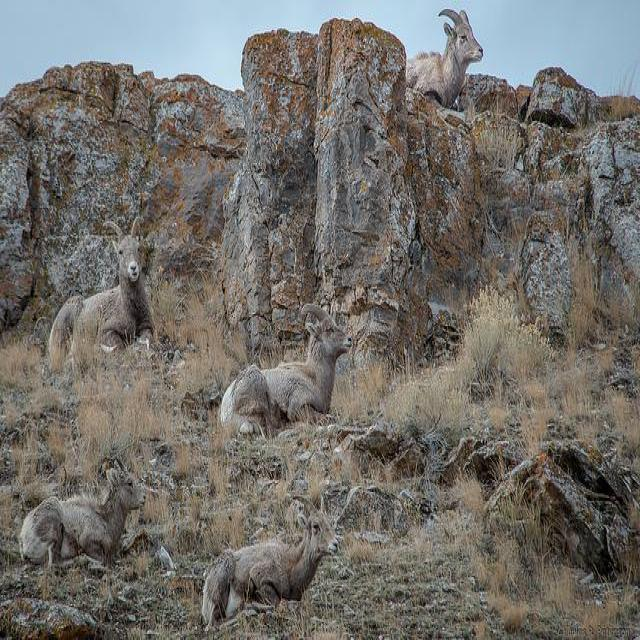Sheep: (200, 493, 337, 632), (221, 305, 352, 441), (47, 215, 157, 368), (20, 462, 144, 570), (406, 9, 484, 108)
